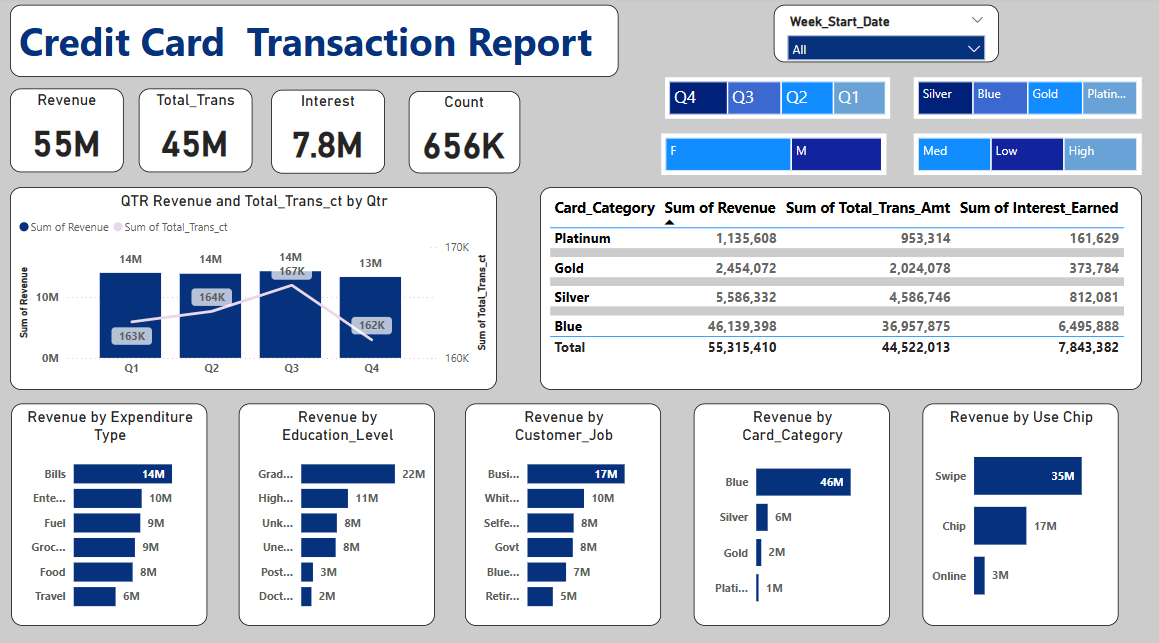

The dashboard page shown, as its layout file describes it:
{"tool":"powerbi","page":{"name":"Credit_Card_Transaction_Report","canvas":[1280,720],"ordinal":1},"visuals":[{"type":"textbox","box":[15.8,10.1,668.2,79],"z":0},{"type":"lineStackedColumnComboChart","title":"QTR Revenue and  Total_Trans_ct by Qtr","fields":{"Category":["credit_card.Qtr"],"Y":["Sum(credit_card.Revenue)"],"Y2":["Sum(credit_card.Total_Trans_ct)"]},"box":[15.8,209.8,534.5,222.7],"z":1000},{"type":"barChart","title":" Revenue by Expenditure Type","fields":{"Y":["Sum(credit_card.Revenue)"],"Category":["credit_card.Exp Type"]},"box":[17.2,446.9,215.5,244.3],"z":2000},{"type":"barChart","title":" Revenue by Education_Level","fields":{"Y":["Sum(credit_card.Revenue)"],"Category":["customer.Education_Level"]},"box":[267.3,446.9,215.5,244.3],"z":3000},{"type":"barChart","title":" Revenue by  Customer_Job","fields":{"Y":["Sum(credit_card.Revenue)"],"Category":["customer.Customer_Job"]},"box":[515.9,446.9,215.5,244.3],"z":4000},{"type":"barChart","title":" Revenue by Card_Category","fields":{"Y":["Sum(credit_card.Revenue)"],"Category":["credit_card.Card_Category"]},"box":[767.3,446.9,215.5,244.3],"z":5000},{"type":"barChart","title":" Revenue by Use Chip","fields":{"Y":["Sum(credit_card.Revenue)"],"Category":["credit_card.Use Chip"]},"box":[1018.8,446.9,215.5,244.3],"z":6000},{"type":"tableEx","fields":{"Values":["credit_card.Card_Category","Sum(credit_card.Revenue)","Sum(credit_card.Total_Trans_Amt)","Sum(credit_card.Interest_Earned)"]},"box":[597.8,209.8,661,222.7],"z":7000},{"type":"card","title":"Interest","fields":{"Values":["Sum(credit_card.Interest_Earned)"]},"box":[303.2,103.5,125,92],"z":8000},{"type":"card","title":"Total_Trans","fields":{"Values":["Sum(credit_card.Total_Trans_Amt)"]},"box":[158.1,102,125,92],"z":9000},{"type":"card","title":"Revenue","fields":{"Values":["Sum(credit_card.Revenue)"]},"box":[15.8,102,125,92],"z":10000},{"type":"card","title":"Count","fields":{"Values":["Sum(credit_card.Total_Trans_ct)"]},"box":[454.1,104.9,122.1,90.5],"z":11000},{"type":"slicer","fields":{"Values":["credit_card.Week_Start_Date"]},"box":[855,10.1,247.1,63.2],"z":12000},{"type":"treemap","fields":{"Group":["credit_card.Qtr"],"Values":["Avg(credit_card.Client_Num)"]},"box":[735.7,89.1,247.1,46],"z":13000},{"type":"treemap","fields":{"Group":["customer.Gender"],"Values":["CountNonNull(customer.Gender)"]},"box":[731.4,150.9,247.1,46],"z":14000},{"type":"treemap","fields":{"Group":["credit_card.Card_Category"],"Values":["Avg(credit_card.Client_Num)"]},"box":[1008.7,89.1,250,46],"z":15000},{"type":"treemap","fields":{"Group":["customer.Income Group"],"Values":["Avg(credit_card.Client_Num)"]},"box":[1008.7,150.9,250,46],"z":16000}]}

Visuals, with their boxes in screenshot pixels (x1, y1, x2, y2), scaled from the page's 1280x720 canvas onto the 1159x643 screenshot:
textbox: left=14, top=9, right=619, bottom=80
"QTR Revenue and  Total_Trans_ct by Qtr" lineStackedColumnComboChart: left=14, top=187, right=498, bottom=386
" Revenue by Expenditure Type" barChart: left=16, top=399, right=211, bottom=617
" Revenue by Education_Level" barChart: left=242, top=399, right=437, bottom=617
" Revenue by  Customer_Job" barChart: left=467, top=399, right=662, bottom=617
" Revenue by Card_Category" barChart: left=695, top=399, right=890, bottom=617
" Revenue by Use Chip" barChart: left=922, top=399, right=1118, bottom=617
tableEx - credit_card.Card_Category x Sum(credit_card.Revenue): left=541, top=187, right=1140, bottom=386
"Interest" card: left=275, top=92, right=388, bottom=175
"Total_Trans" card: left=143, top=91, right=256, bottom=173
"Revenue" card: left=14, top=91, right=127, bottom=173
"Count" card: left=411, top=94, right=522, bottom=175
slicer - credit_card.Week_Start_Date: left=774, top=9, right=998, bottom=65
treemap - credit_card.Qtr x Avg(credit_card.Client_Num): left=666, top=80, right=890, bottom=121
treemap - customer.Gender x CountNonNull(customer.Gender): left=662, top=135, right=886, bottom=176
treemap - credit_card.Card_Category x Avg(credit_card.Client_Num): left=913, top=80, right=1140, bottom=121
treemap - customer.Income Group x Avg(credit_card.Client_Num): left=913, top=135, right=1140, bottom=176
